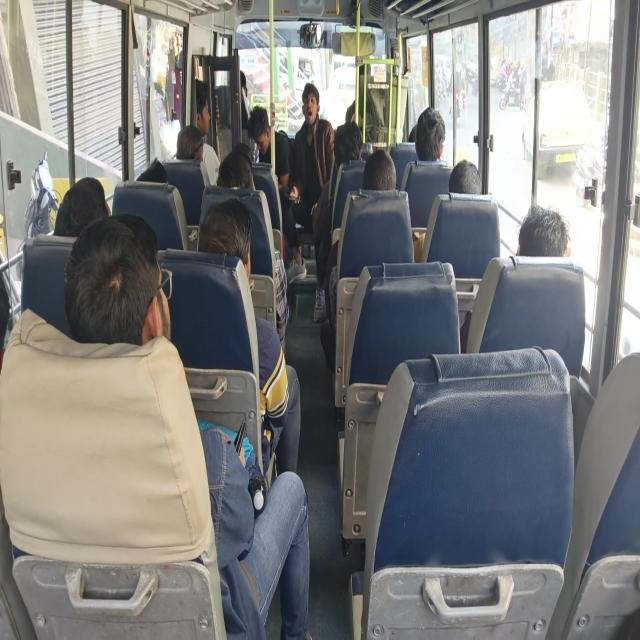person: (70, 222, 170, 348), (503, 192, 577, 262), (53, 180, 117, 242), (200, 196, 260, 258), (0, 251, 34, 346), (360, 144, 400, 203), (215, 151, 257, 195), (332, 108, 364, 162), (245, 105, 278, 156), (412, 110, 448, 156), (452, 156, 486, 199), (175, 129, 210, 165), (298, 76, 328, 118), (190, 88, 213, 136), (133, 163, 173, 184), (229, 65, 251, 95), (406, 119, 428, 142)
